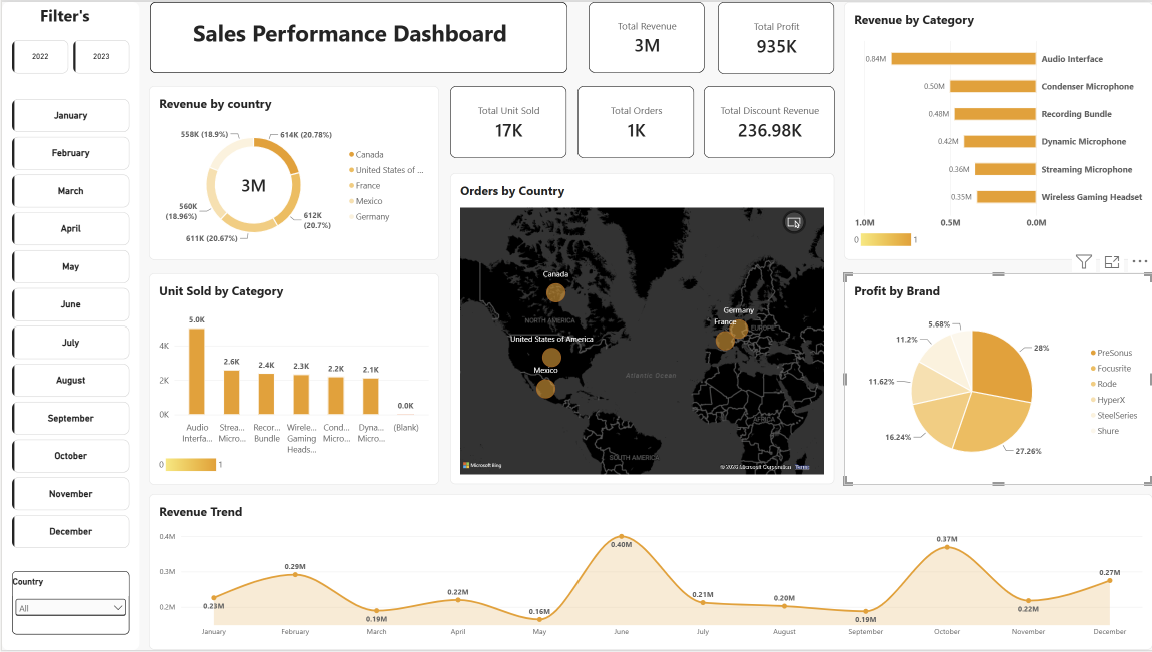

Layout of this report page (visuals, bound fields, positions):
{"tool":"powerbi","page":{"name":"Page 1","canvas":[1920,1080],"ordinal":0},"visuals":[{"type":"shape","box":[0,0,229.5,1080.5],"z":0},{"type":"advancedSlicerVisual","fields":{"Values":["public product_sales.date.Variation.Date Hierarchy.Year"]},"box":[16,64,196,56],"z":1000},{"type":"textbox","box":[64,4,101.4,42.1],"z":2000},{"type":"advancedSlicerVisual","fields":{"Values":["public product_sales.date.Variation.Date Hierarchy.Month"]},"box":[16,162,196,754],"z":3000},{"type":"shape","box":[246.7,0,696.1,118.6],"z":4000},{"type":"slicer","title":"Country","fields":{"Values":["public product_sales.country"]},"box":[16,948,196,106],"z":5000},{"type":"textbox","box":[319.4,24.9,548.8,72.7],"z":6000},{"type":"cardVisual","fields":{"Data":["public discount_data.Total Revenue"]},"box":[979.1,0,193.1,118.6],"z":7000},{"type":"cardVisual","fields":{"Data":["public discount_data.Total Orders"]},"box":[960,140,194,120],"z":8000},{"type":"cardVisual","fields":{"Data":["public discount_data.Total Discount Revenue"]},"box":[1170,140,218,120],"z":9000},{"type":"cardVisual","fields":{"Data":["public discount_data.Total Profit"]},"box":[1194,0,194,120],"z":10000},{"type":"cardVisual","fields":{"Data":["public discount_data.Total Unit Sold"]},"box":[748,140,194,120],"z":11000},{"type":"barChart","title":"Revenue by Category","fields":{"Category":["public product_data.category"],"Y":["public discount_data.Total Revenue"]},"box":[1404,0,516,430],"z":12000},{"type":"donutChart","title":"Revenue by country","fields":{"Category":["public product_sales.country"],"Y":["public discount_data.Total Revenue"]},"box":[246,140,484,290],"z":13000},{"type":"columnChart","title":"Unit Sold by Category","fields":{"Category":["public product_data.category"],"Y":["public discount_data.Total Unit Sold"]},"box":[246,452,484,352],"z":14000},{"type":"lineChart","title":"Revenue Trend","fields":{"Category":["public product_sales.date.Variation.Date Hierarchy.Month"],"Y":["public discount_data.Total Revenue"]},"box":[246,820,1674,260],"z":15000},{"type":"pieChart","title":"Profit by Brand","fields":{"Category":["public product_data.brand"],"Y":["public discount_data.Total Profit"]},"box":[1404,452,516,352],"z":16000},{"type":"map","title":"Orders by Country","fields":{"Category":["public product_sales.country"],"Size":["public discount_data.Total Orders"]},"box":[748,286,640,518],"z":16001}]}

Visuals, with their boxes in screenshot pixels (x1, y1, x2, y2), scaled from the page's 1920x1080 canvas onto the 1152x652 screenshot:
shape: 0,0,138,651
advancedSlicerVisual - public product_sales.date.Variation.Date Hierarchy.Year: 10,39,127,72
textbox: 38,2,99,28
advancedSlicerVisual - public product_sales.date.Variation.Date Hierarchy.Month: 10,98,127,553
shape: 148,0,566,72
"Country" slicer: 10,572,127,636
textbox: 192,15,521,59
cardVisual - public discount_data.Total Revenue: 587,0,703,72
cardVisual - public discount_data.Total Orders: 576,85,692,157
cardVisual - public discount_data.Total Discount Revenue: 702,85,833,157
cardVisual - public discount_data.Total Profit: 716,0,833,72
cardVisual - public discount_data.Total Unit Sold: 449,85,565,157
"Revenue by Category" barChart: 842,0,1151,260
"Revenue by country" donutChart: 148,85,438,260
"Unit Sold by Category" columnChart: 148,273,438,485
"Revenue Trend" lineChart: 148,495,1151,651
"Profit by Brand" pieChart: 842,273,1151,485
"Orders by Country" map: 449,173,833,485
